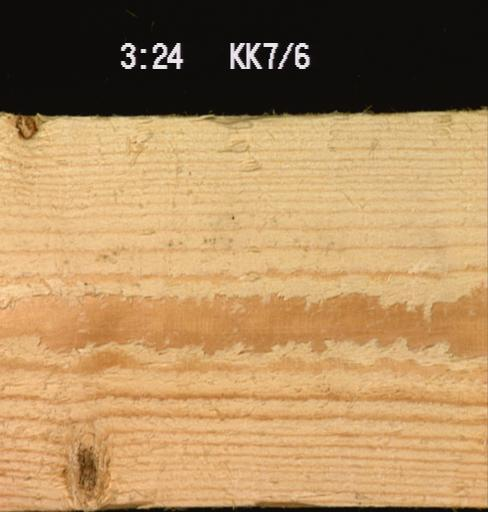edge_knot: (12, 113, 40, 140)
wave: (247, 486, 326, 508)
